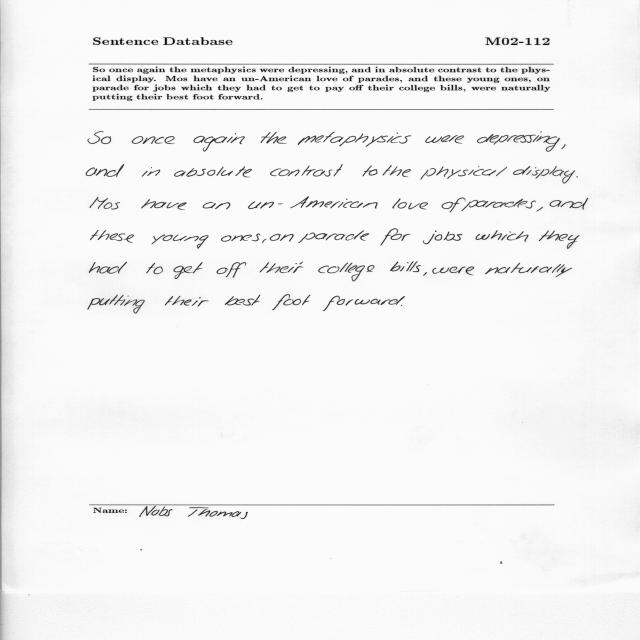word: (477, 131, 560, 152), (298, 132, 411, 147), (248, 197, 378, 209), (323, 296, 405, 311), (485, 263, 572, 277), (421, 166, 507, 180), (88, 295, 145, 314), (319, 263, 375, 282), (513, 166, 575, 183), (193, 133, 245, 152), (270, 164, 343, 177), (298, 230, 369, 243), (461, 199, 536, 211), (151, 234, 209, 249), (174, 166, 252, 177), (539, 230, 579, 249), (476, 230, 529, 242), (272, 295, 311, 310), (91, 230, 134, 243), (423, 231, 462, 245), (380, 229, 411, 246), (141, 199, 187, 210), (86, 164, 124, 177), (174, 262, 203, 279), (165, 296, 209, 307), (217, 262, 247, 278), (550, 198, 588, 210), (89, 262, 127, 274), (392, 199, 428, 210), (90, 197, 120, 210), (225, 295, 260, 306), (442, 198, 466, 213), (425, 135, 464, 144), (221, 233, 260, 242), (132, 136, 175, 144), (383, 165, 411, 177), (432, 267, 474, 275), (261, 132, 287, 144), (390, 262, 421, 272), (88, 131, 111, 144), (260, 262, 281, 273), (270, 234, 294, 242), (203, 202, 230, 209), (146, 263, 163, 274), (279, 263, 297, 273), (363, 166, 378, 177), (142, 167, 160, 176), (293, 261, 303, 273), (536, 207, 543, 212), (561, 144, 566, 149), (262, 239, 266, 243), (423, 272, 427, 276), (577, 176, 578, 178), (401, 305, 402, 306)
